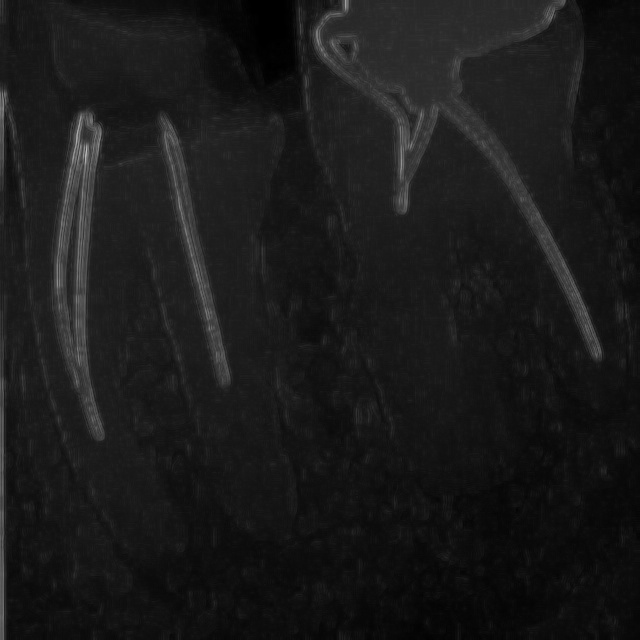Class 2- incomplete endodontic treatment: (1, 17, 323, 583), (277, 3, 640, 487)
